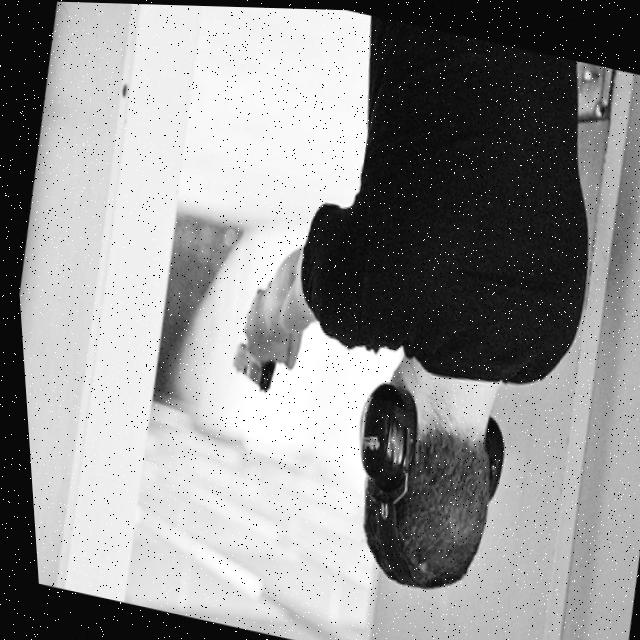pistol: (219, 337, 275, 395)
